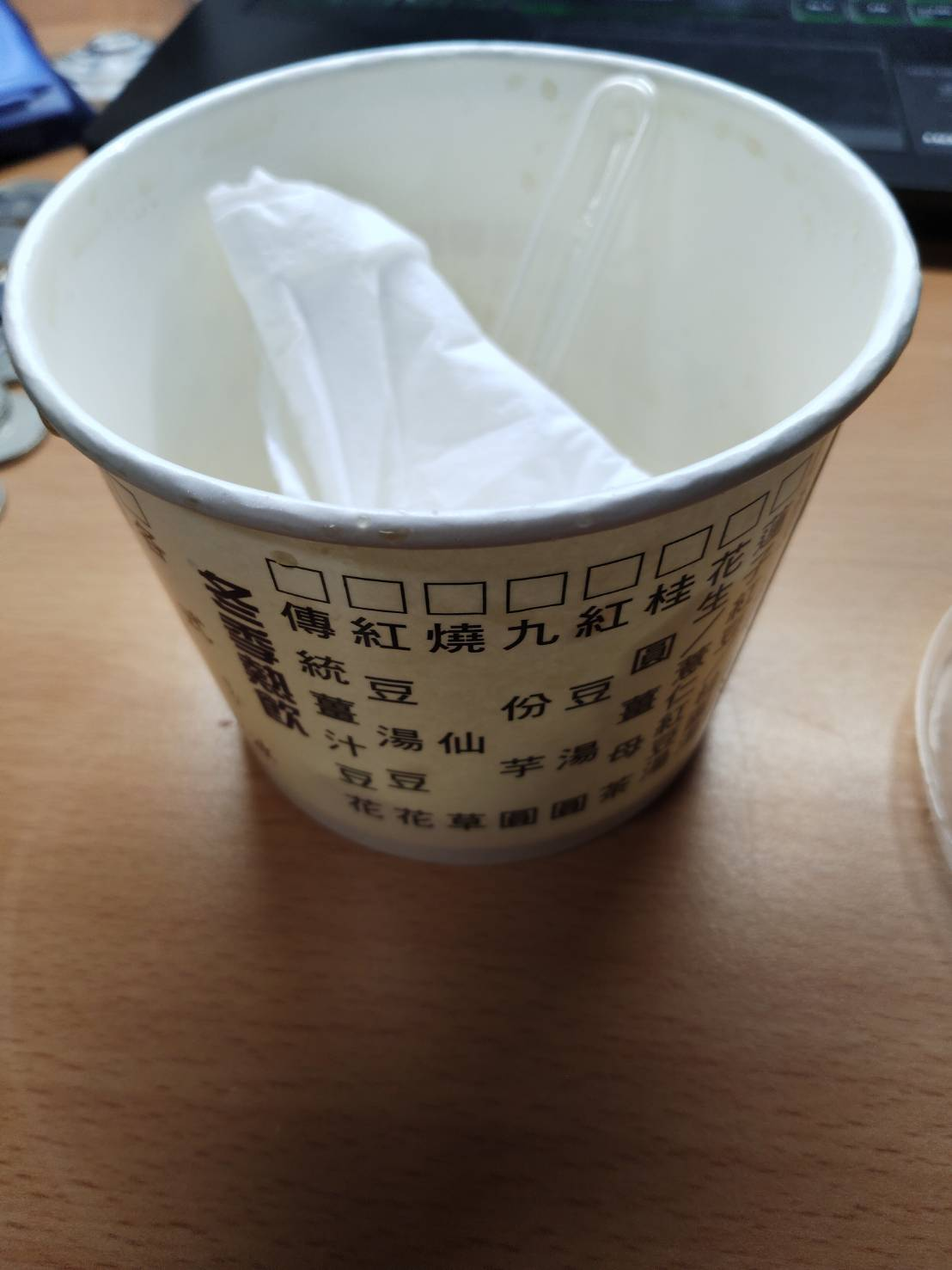paper: (0, 3, 952, 900)
